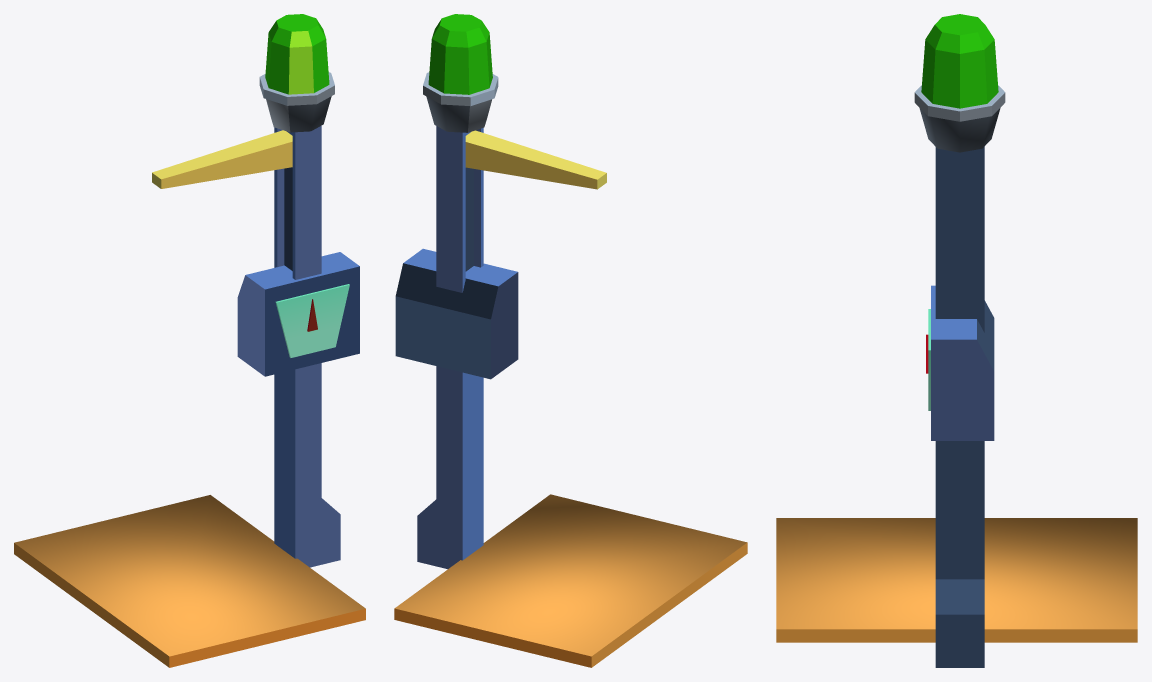
Rendered from Scale.fbx.
3 renders of one model, left to right at view 1: azimuth 30°, elevation 25°; view 2: azimuth 150°, elevation 25°; view 3: azimuth 270°, elevation 25°, orthographic. The views are drawn at different scales.
Parts seen in each view (by area): view 1: Scale, Scale1; view 2: Scale, Scale1; view 3: Scale.
Boxes of the visible parts, x1=… form: Scale: x1=14, y1=14, x2=365, y2=667; Scale1: x1=152, y1=130, x2=292, y2=188; Scale: x1=394, y1=14, x2=747, y2=667; Scale1: x1=465, y1=130, x2=606, y2=189; Scale: x1=776, y1=14, x2=1137, y2=667.
Size of the model in its own units: 148 by 296 by 155.
